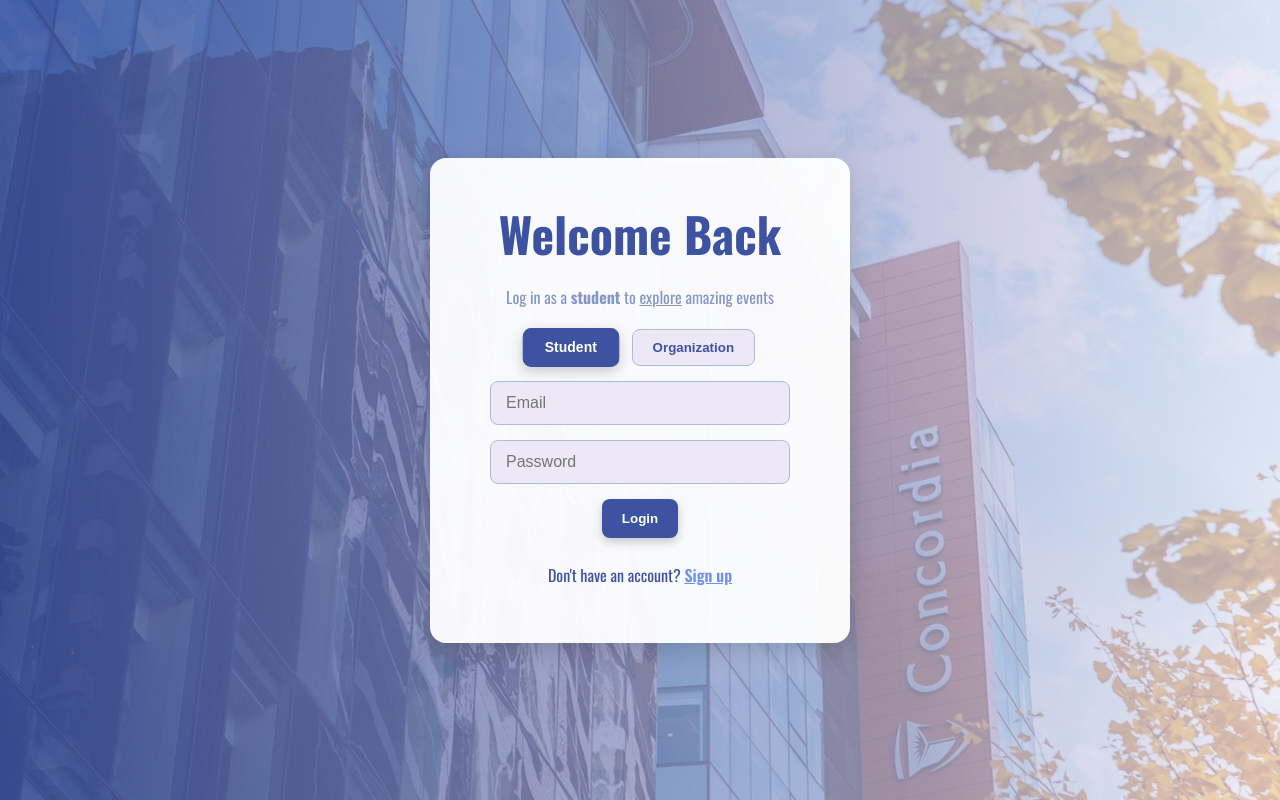
Test case: Login Component › shows error for password missing uppercase
Type "test@example.com" into the field with placeholder "Email" at (640, 402), box [490,380,790,424]
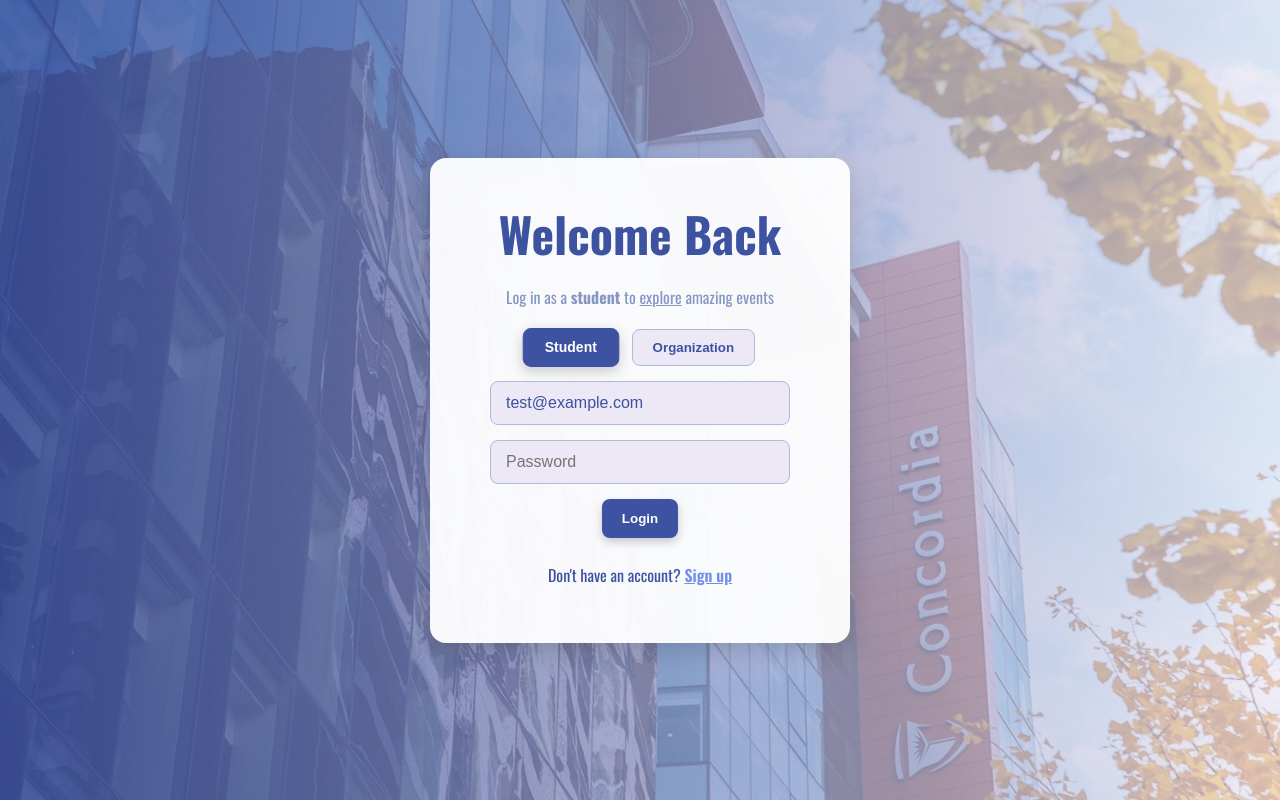
Type "lowercase1" into the password field with placeholder "Password" at (640, 462), box [490,440,790,484]
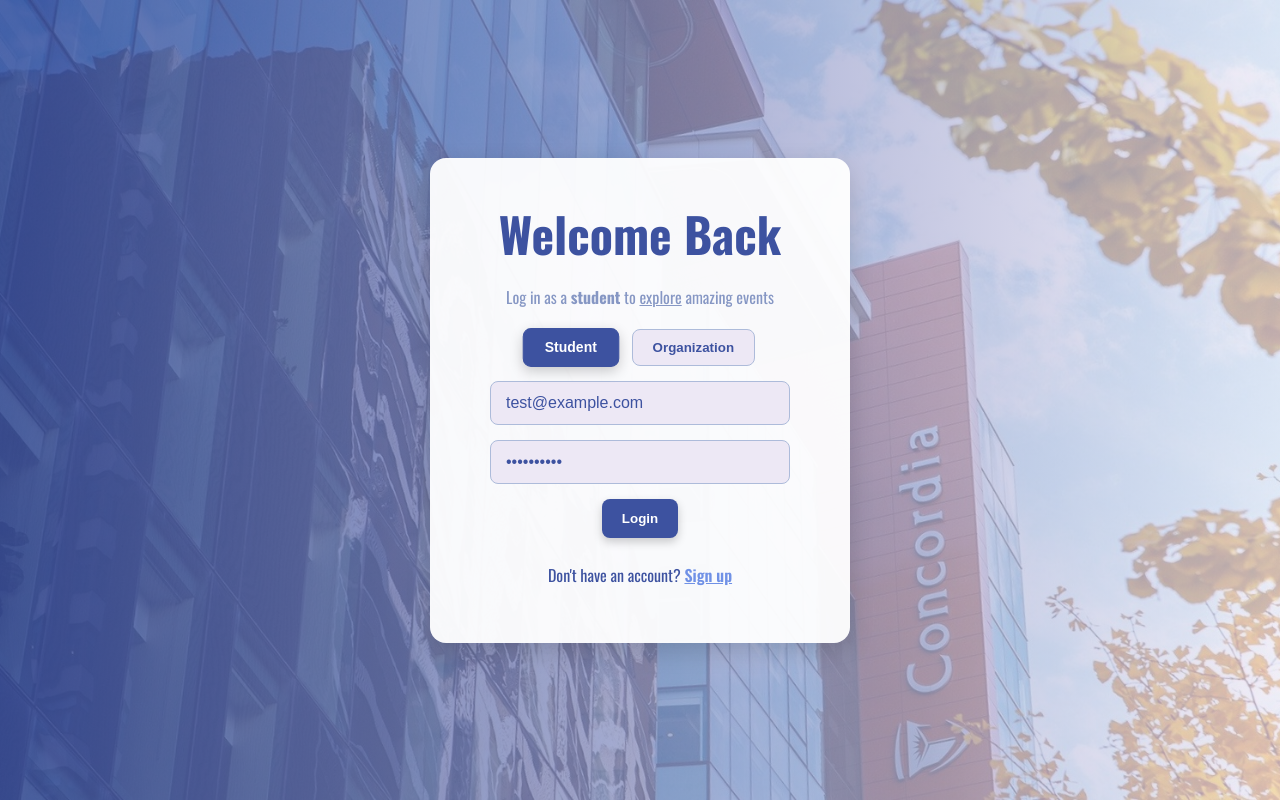
Click the button "Login" at (640, 518), box [602,498,678,538]
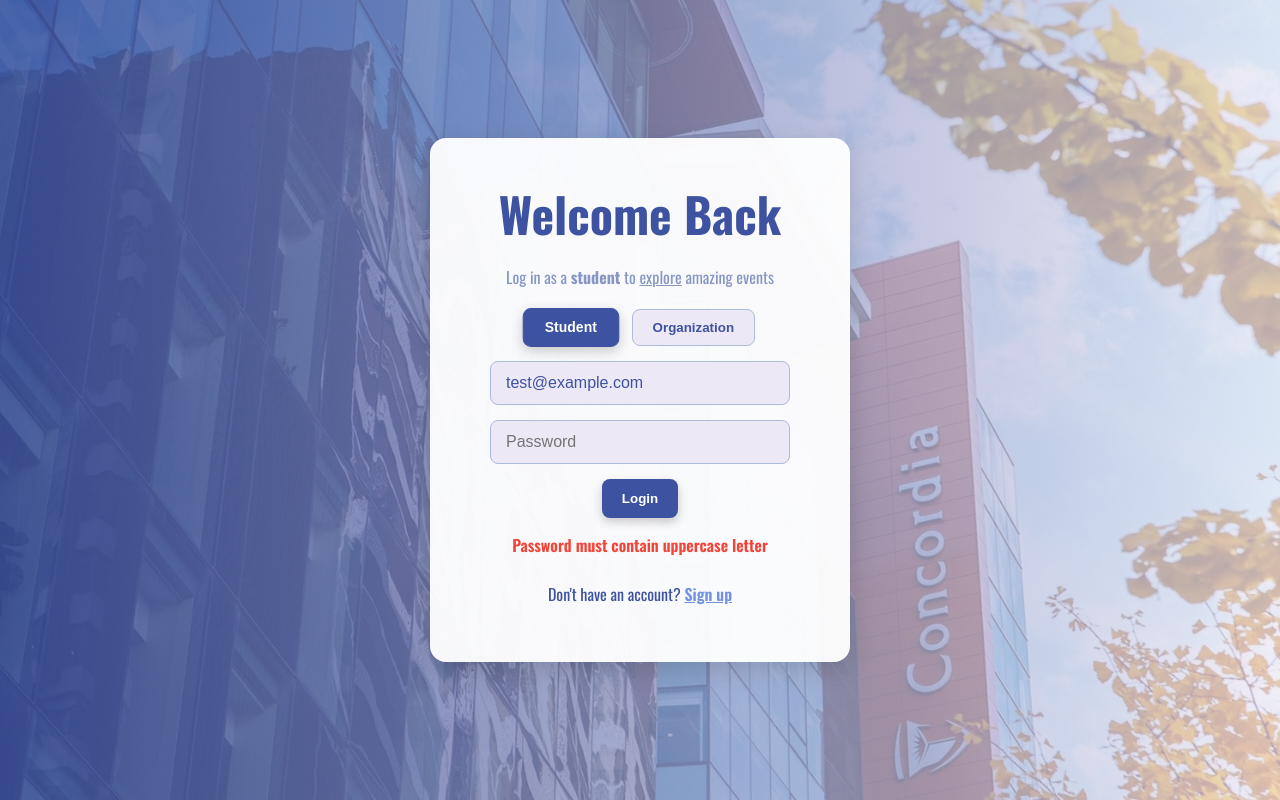
expect the text "Password must contain uppercase letter" is shown: met, box [490,533,790,557]
